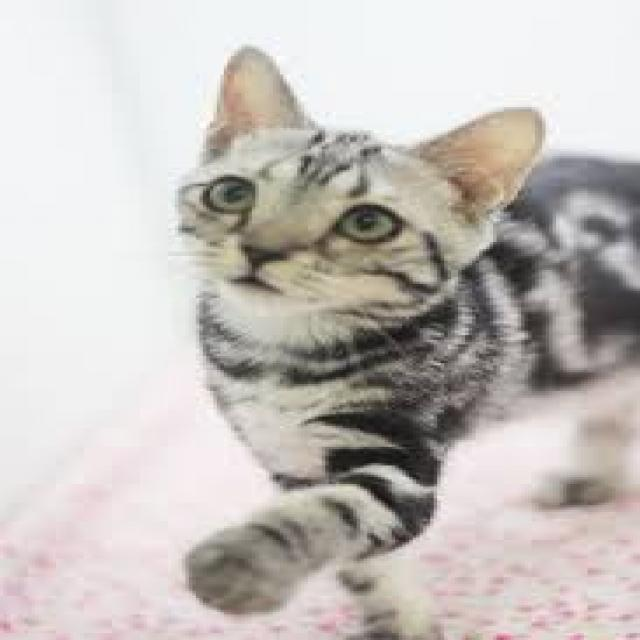cat-face: (101, 34, 603, 340)
